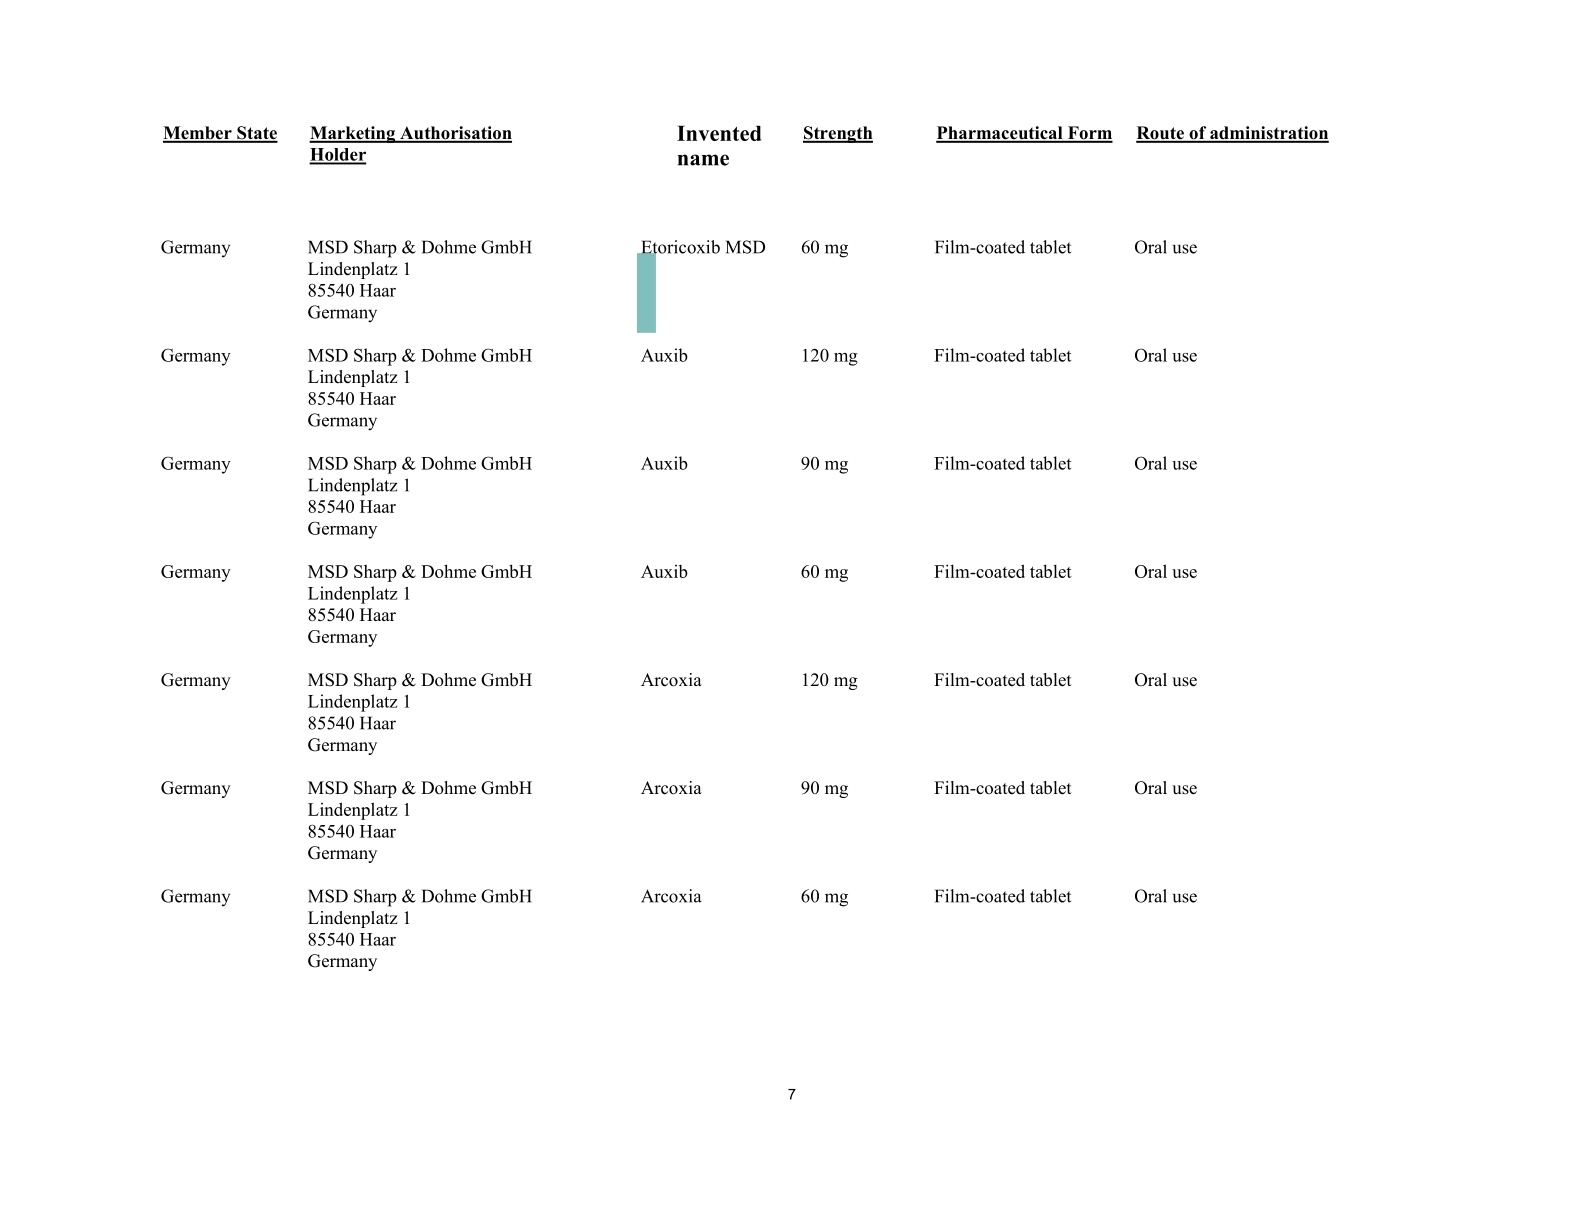nolines: (157, 122, 1329, 972)
